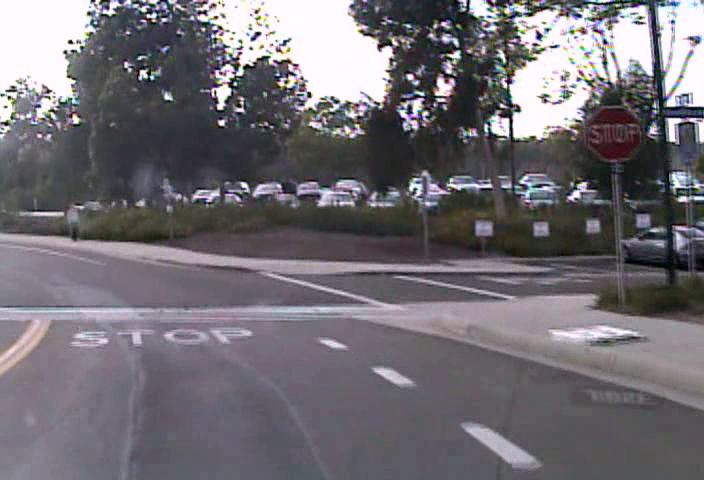stop: (584, 105, 644, 162)
